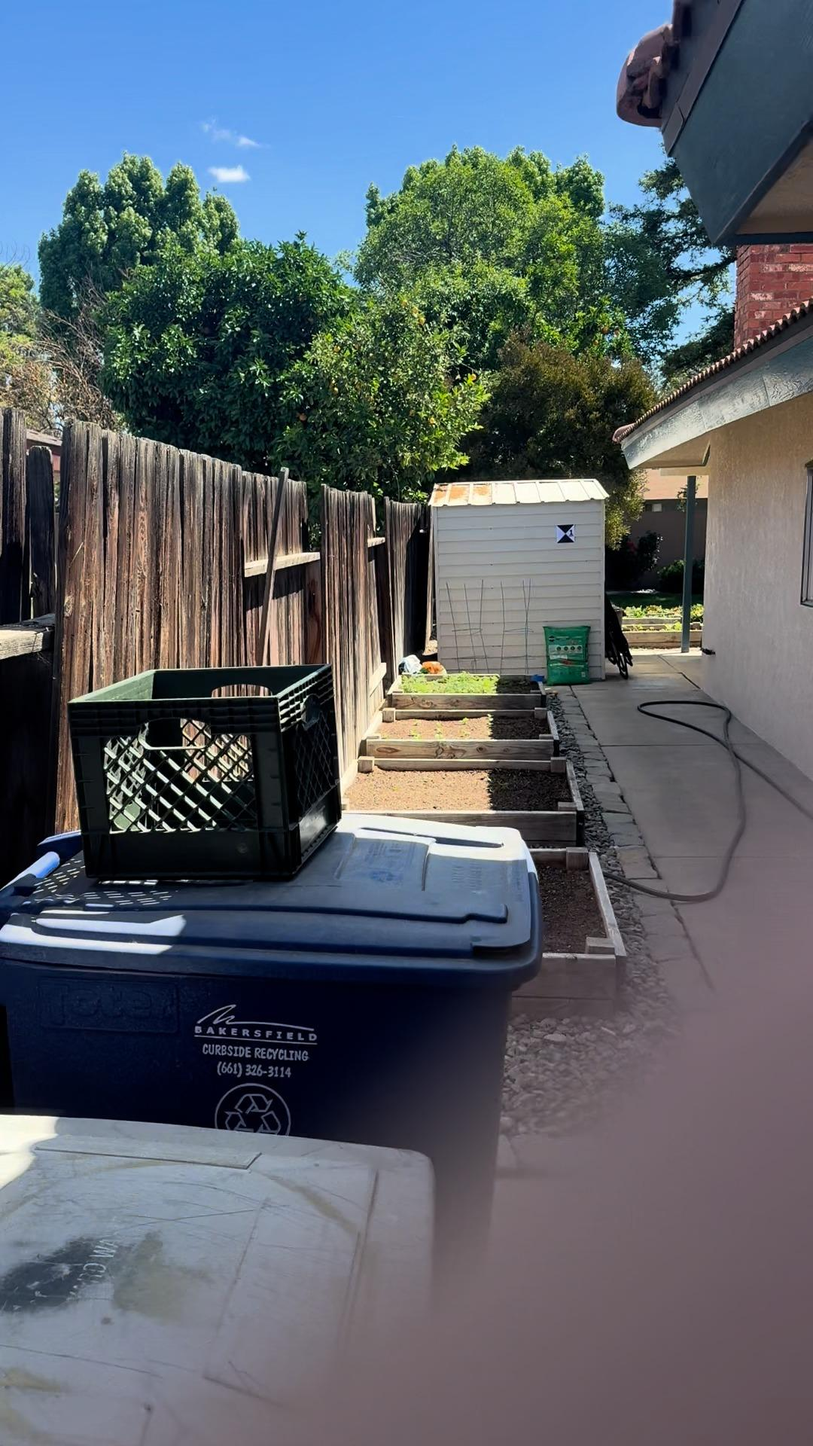target1: (553, 522, 577, 545)
